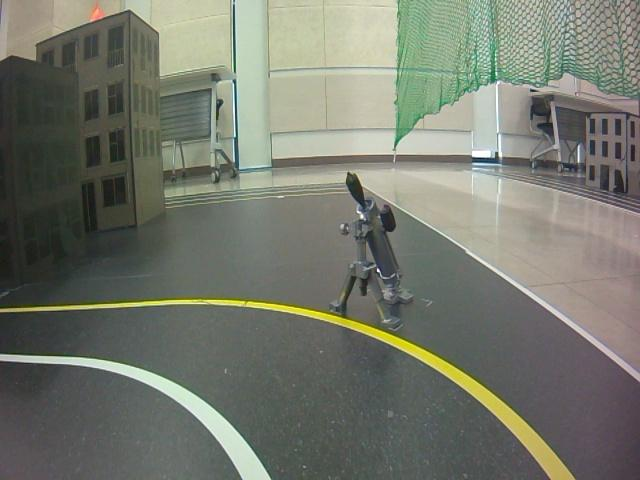Mortar: (327, 171, 413, 334)
